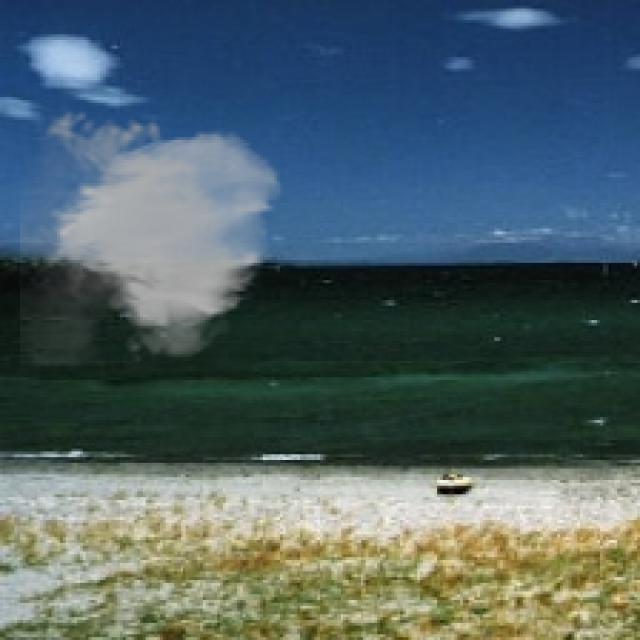Smoke: (20, 103, 286, 366)
